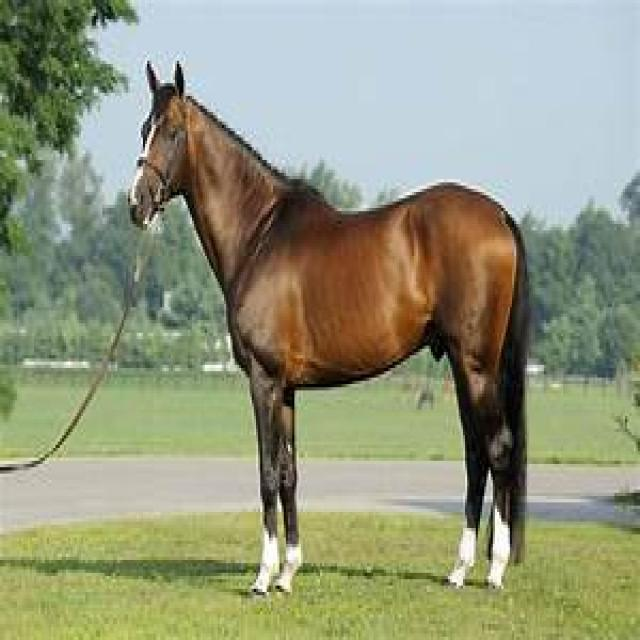horse: (128, 64, 533, 602)
